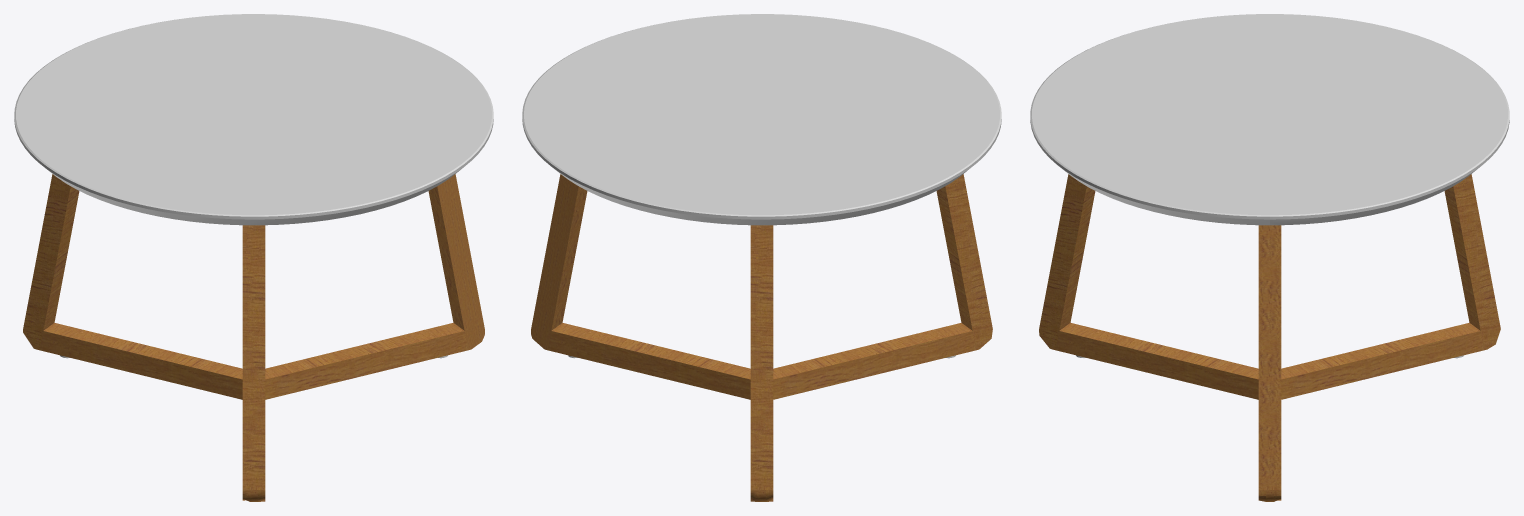
File: coffee_table_2.glb
3 renders of one model, left to right at view 1: azimuth 30°, elevation 25°; view 2: azimuth 150°, elevation 25°; view 3: azimuth 270°, elevation 25°, orthographic.
Parts seen in each view (by area): view 1: Object_3_1, Object_4_2; view 2: Object_3_1, Object_4_2; view 3: Object_3_1, Object_4_2.
Boxes of the visible parts, x1,y1,x2,y2 form: Object_3_1: (14,14,493,358); Object_4_2: (23,174,484,501); Object_3_1: (522,14,1001,358); Object_4_2: (531,174,992,501); Object_3_1: (1030,14,1509,358); Object_4_2: (1039,174,1500,501).
Size of the model in its own units: 0.6259 by 0.395 by 0.5996.
Materials: 3 (1 with a texture image).
